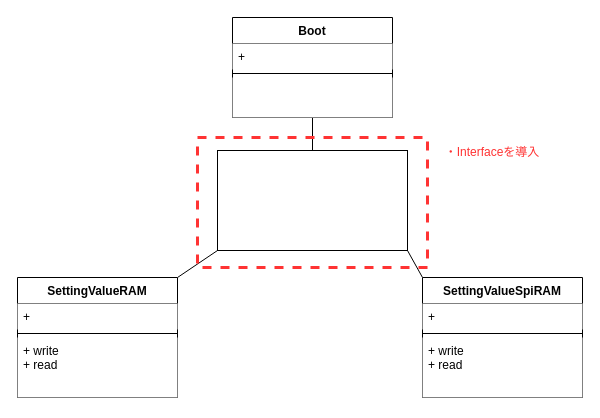
Image size: 600x418. Some labels were removed from this diagram. The box of each missing label's shape, as (x1, y1, x2, y2) in pixels:
+ Boot(): + readSettingValue:: (232, 77, 392, 117)
<<Interface>> ISettingValue + write + read: (216, 150, 408, 250)
